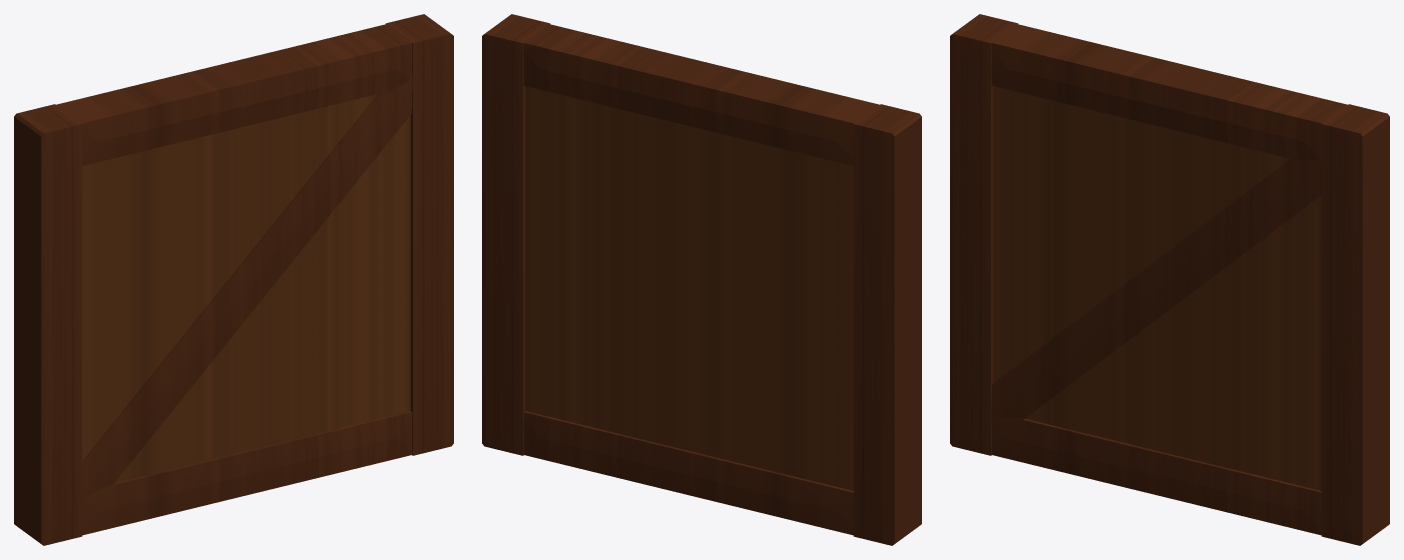
Rendered from Wall_R_Slash_Wood.fbx.
The picture shows the model from 3 angles, left to right: view 1: azimuth 30°, elevation 25°; view 2: azimuth 150°, elevation 25°; view 3: azimuth 330°, elevation 25°; orthographic projection.
Parts seen in each view (by area): view 1: Wall_R_Slash_Wood; view 2: Wall_R_Slash_Wood; view 3: Wall_R_Slash_Wood.
Part boxes in pixels (box(x1,y1,x2,y2)): Wall_R_Slash_Wood: box(14, 14, 453, 545); Wall_R_Slash_Wood: box(482, 14, 921, 545); Wall_R_Slash_Wood: box(950, 14, 1389, 545).
Bounding box in the file's own units: 212 × 202 × 26.17.
